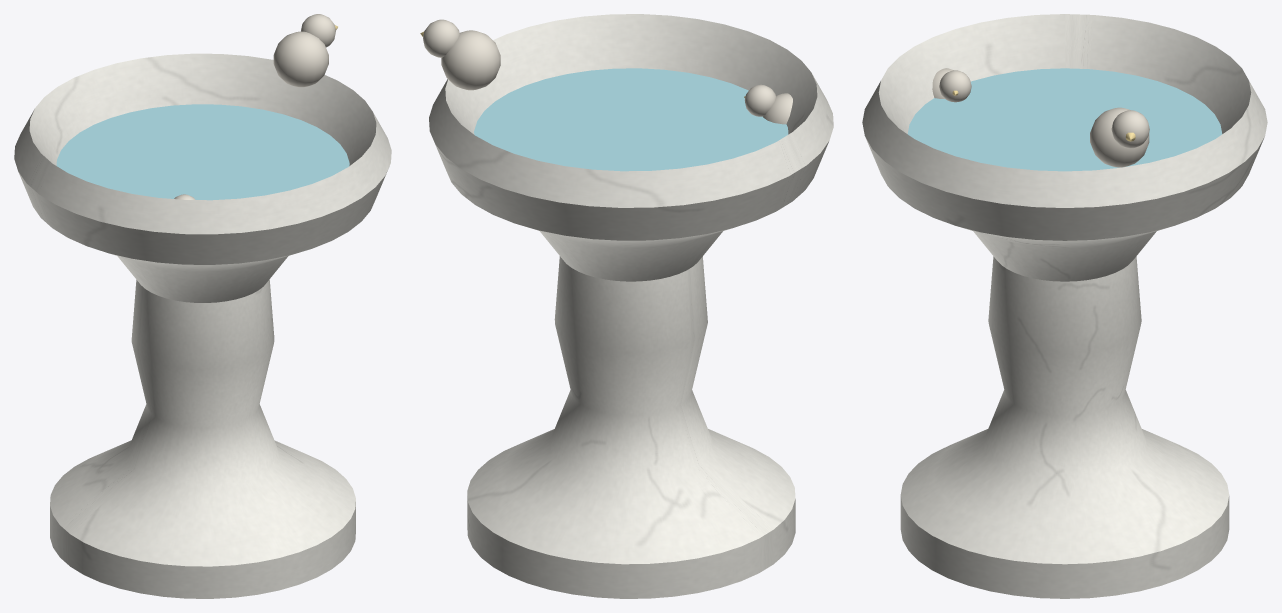
Rendered from th36_vogeltraenke.glb.
3 renders of one model, left to right at view 1: azimuth 30°, elevation 25°; view 2: azimuth 150°, elevation 25°; view 3: azimuth 270°, elevation 25°, orthographic. The views are drawn at different scales.
Visible parts, largest first — view 1: Traenke, Circle, Sphere, Sphere.001; view 2: Traenke, Circle, Sphere, Sphere.001, Sphere.003, Sphere.002; view 3: Traenke, Circle, Sphere, Sphere.001, Sphere.003.
Boxes of the visible parts, x1=… form: Traenke: x1=14, y1=53, x2=391, y2=598; Circle: x1=56, y1=104, x2=349, y2=200; Sphere: x1=273, y1=31, x2=328, y2=87; Sphere.001: x1=301, y1=14, x2=335, y2=47; Traenke: x1=429, y1=14, x2=833, y2=598; Circle: x1=474, y1=68, x2=788, y2=171; Sphere: x1=441, y1=30, x2=500, y2=90; Sphere.001: x1=423, y1=19, x2=459, y2=57; Sphere.003: x1=744, y1=84, x2=775, y2=116; Sphere.002: x1=763, y1=93, x2=792, y2=124; Traenke: x1=862, y1=14, x2=1267, y2=598; Circle: x1=907, y1=68, x2=1222, y2=171; Sphere: x1=1090, y1=107, x2=1149, y2=167; Sphere.001: x1=1111, y1=110, x2=1149, y2=148; Sphere.003: x1=939, y1=70, x2=971, y2=102.
Bounding box in the file's own units: 0.7458 × 0.995 × 0.74.
Materials: 4 (1 with a texture image).
